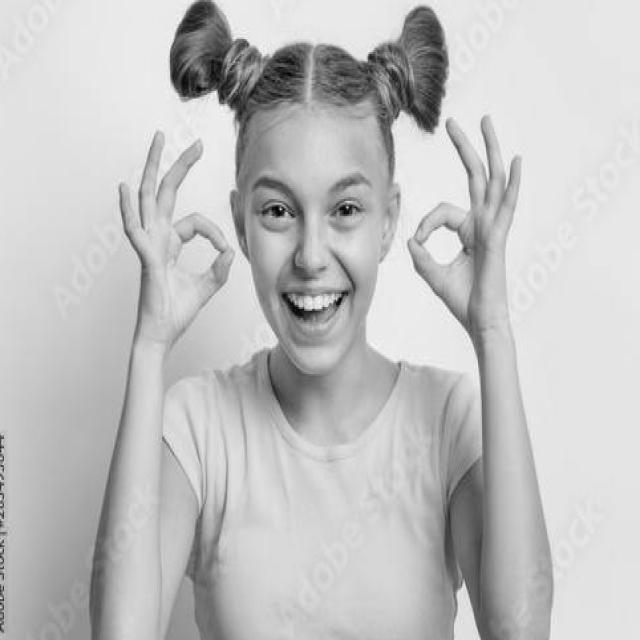perfect: (112, 120, 239, 359), (403, 107, 528, 345)
